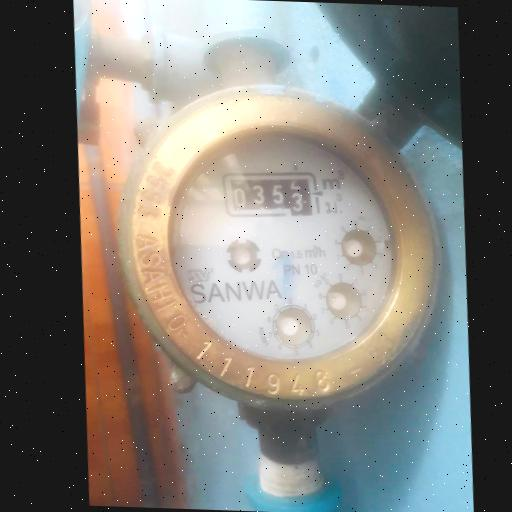0: (229, 179, 251, 211)
3: (285, 178, 313, 217), (246, 178, 269, 210)
5: (263, 177, 290, 209)
border_water_meter_number: (220, 166, 322, 220)
